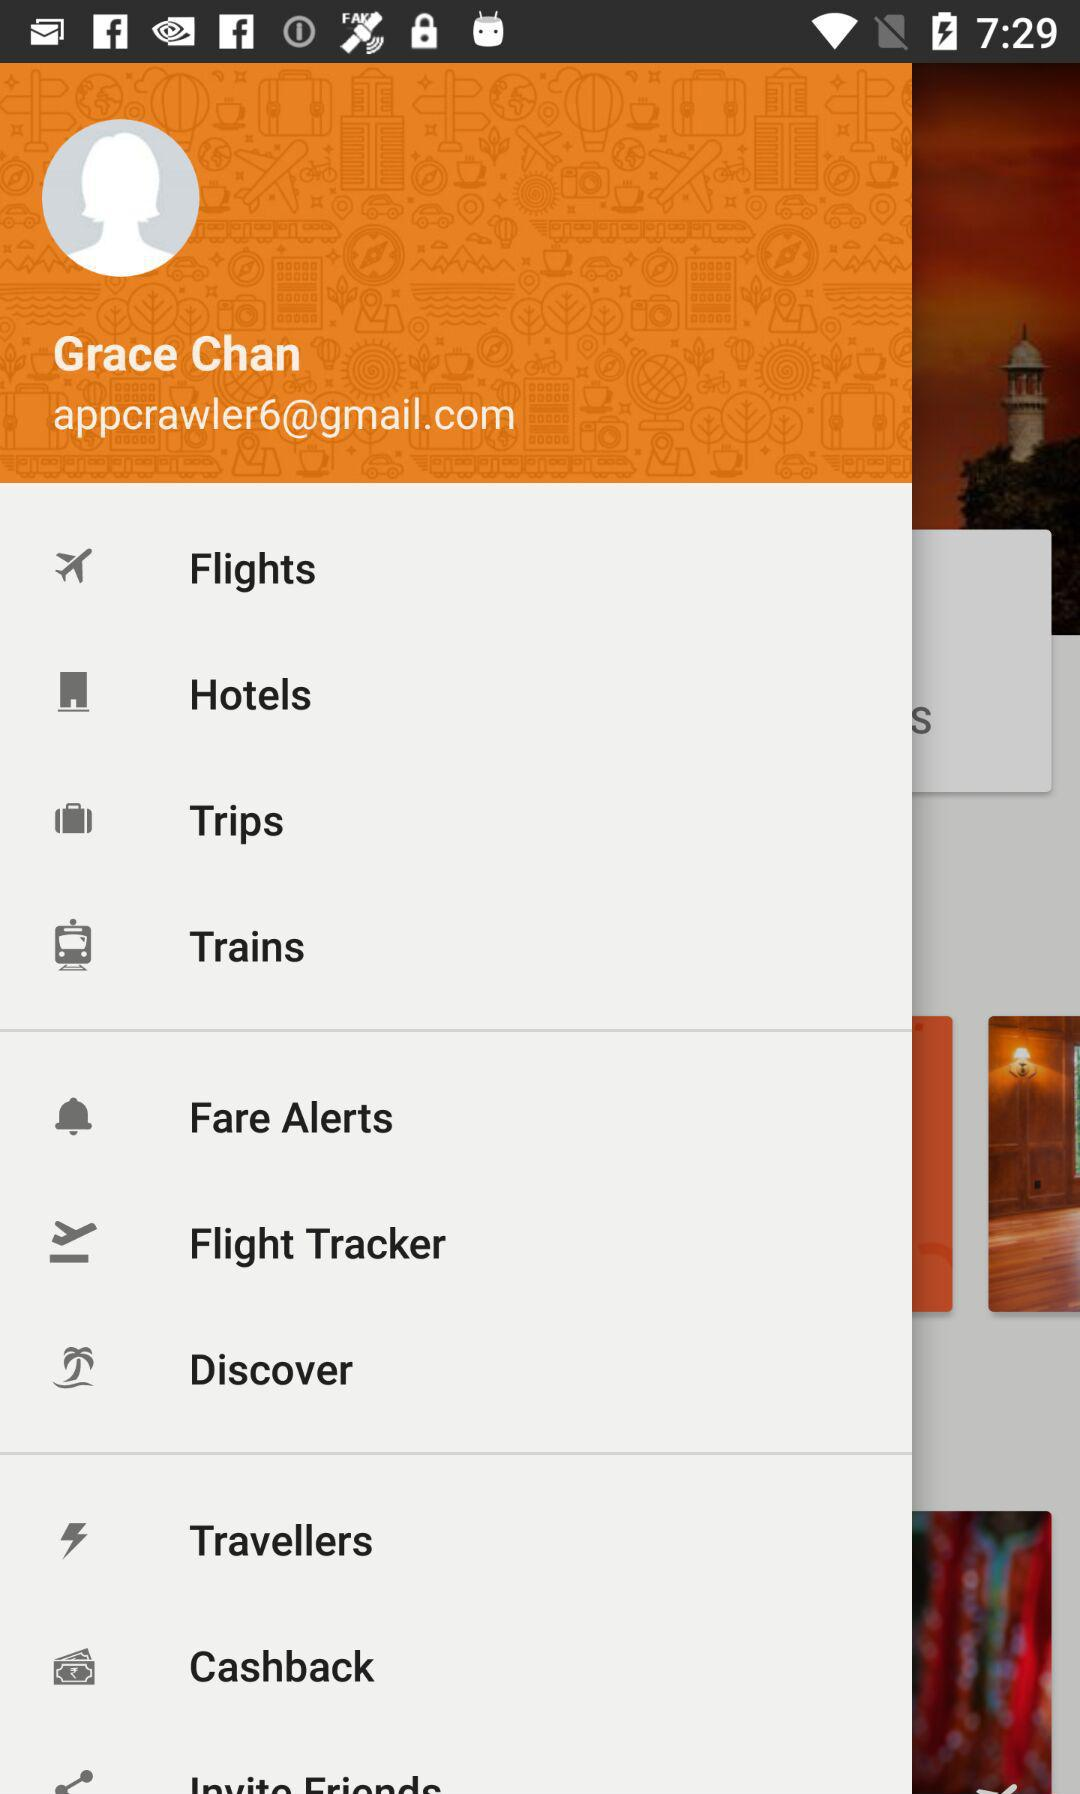Drawer: (1, 64, 913, 1794)
Icon: (41, 119, 202, 279), (56, 1097, 94, 1137), (58, 671, 91, 714), (55, 802, 95, 835)
Image: (54, 918, 94, 973), (49, 1220, 99, 1263), (51, 1345, 96, 1390), (53, 1647, 97, 1686), (55, 548, 94, 586), (60, 1522, 88, 1559), (54, 1770, 96, 1794)
Text: (53, 395, 516, 441), (191, 1226, 448, 1269), (54, 333, 301, 375), (191, 1099, 395, 1135), (190, 1647, 377, 1684), (190, 1524, 375, 1558), (191, 550, 316, 595), (191, 1353, 355, 1387), (191, 1773, 442, 1794), (191, 677, 313, 712), (190, 803, 284, 847), (190, 929, 306, 964)
UpperTaskBar: (1, 1, 1080, 64)
